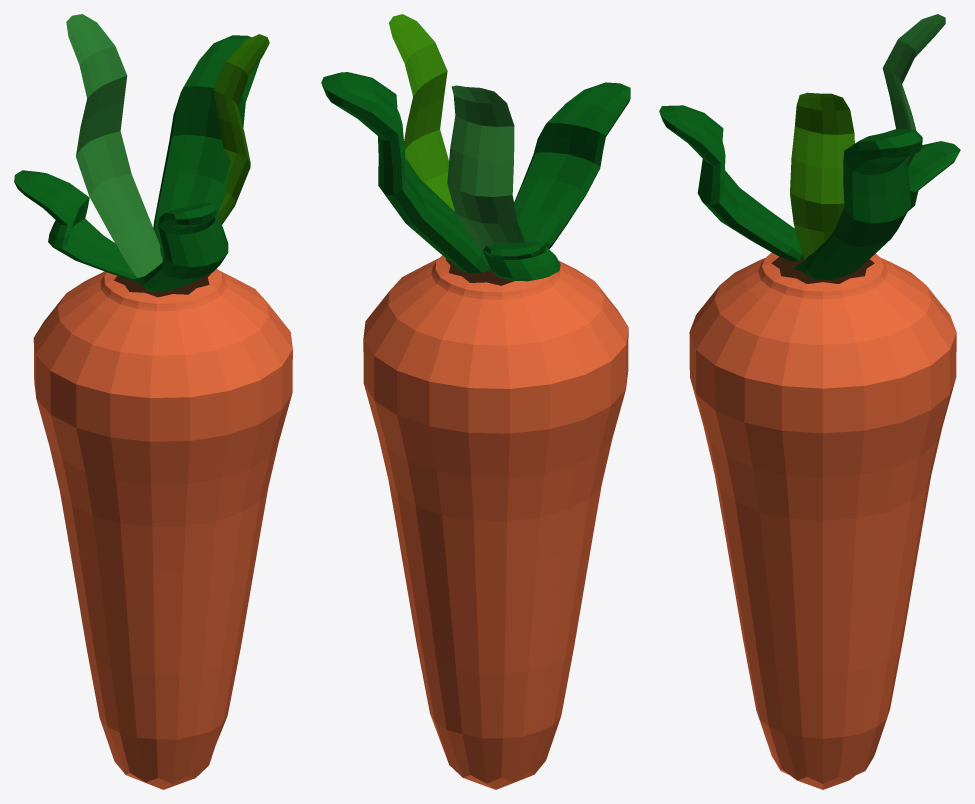
The model's file is carrot.fbx.
The picture shows the model from 3 angles, left to right: view 1: azimuth 30°, elevation 25°; view 2: azimuth 150°, elevation 25°; view 3: azimuth 270°, elevation 25°; orthographic projection. The views are drawn at different scales.
Parts seen in each view (by area): view 1: Cylinder, Plane.002, Plane; view 2: Cylinder, Plane.002, Plane; view 3: Cylinder, Plane, Plane.002.
Part boxes in pixels (x1,y1,x2,y2): Cylinder: [14, 35, 292, 789]; Plane.002: [66, 14, 162, 277]; Plane: [213, 34, 269, 224]; Cylinder: [321, 72, 630, 789]; Plane.002: [447, 85, 524, 250]; Plane: [389, 14, 454, 211]; Cylinder: [659, 105, 960, 789]; Plane: [790, 92, 854, 259]; Plane.002: [882, 14, 945, 167].
Size of the model in its own units: 174 by 501 by 181.
